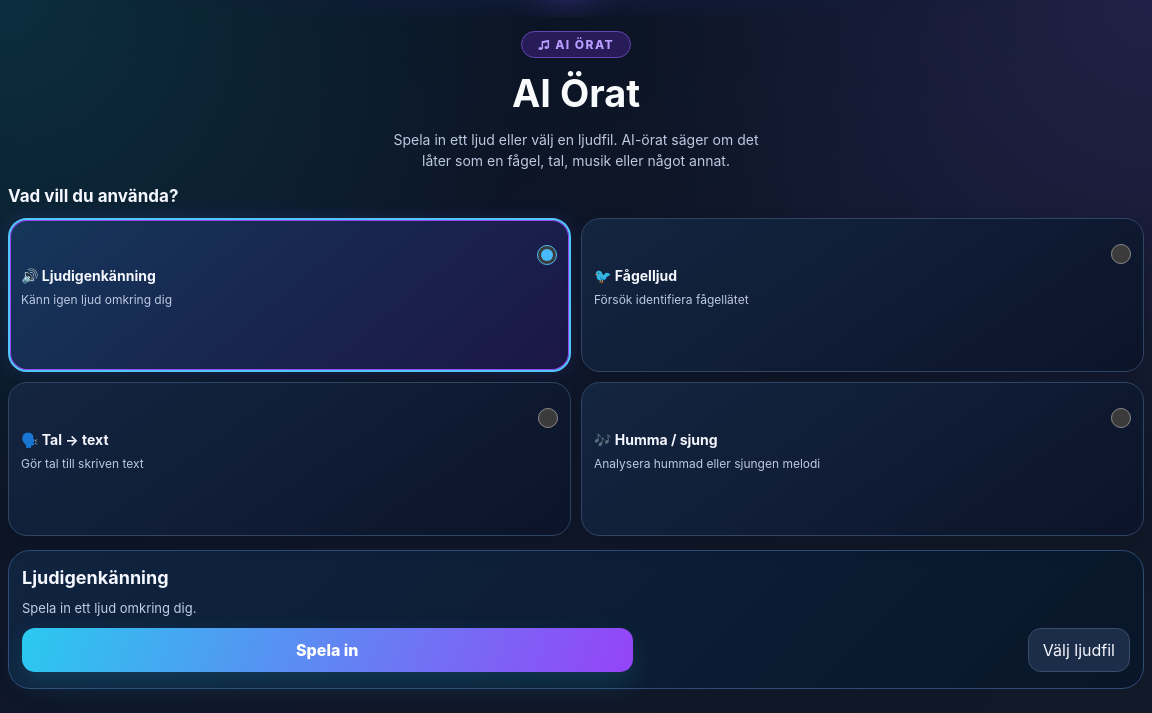
it: AI-örat: funktionsspärr i appen › låter admin spela in först efter en ny godkänd kontroll precis före mikrofonen
(page scrolled)
Click the button "Spela in". click: (327, 650)
box: [22,628,632,672]
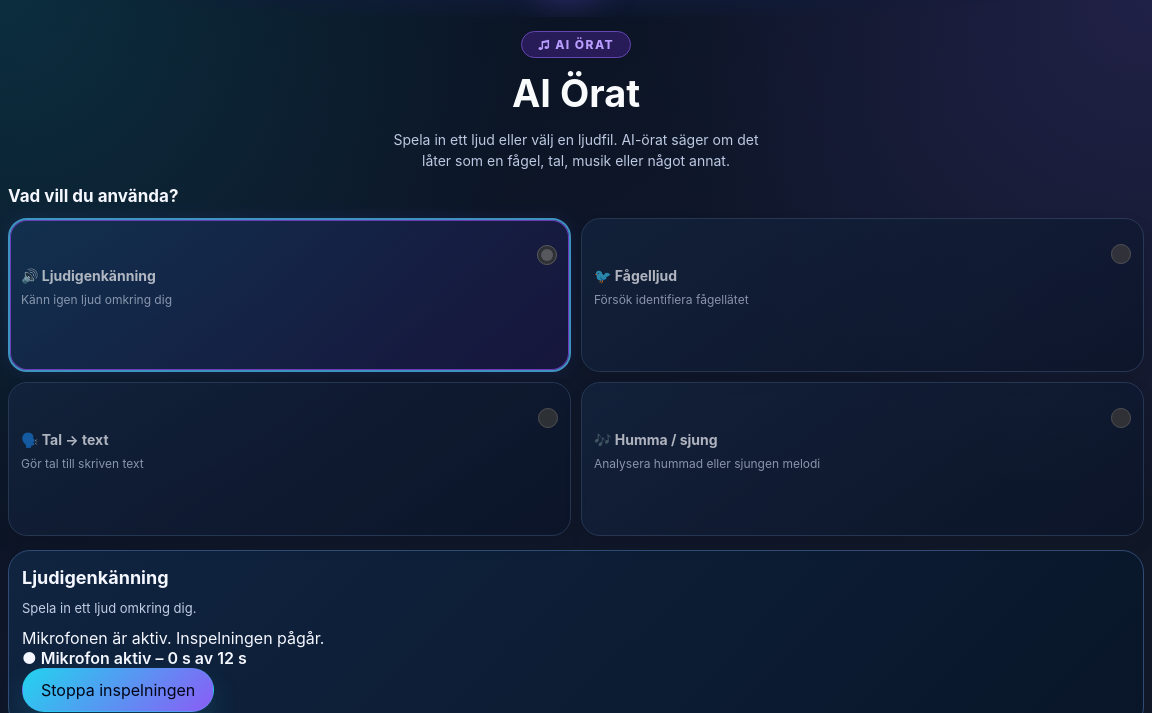
expect the text "● Mikrofon aktiv – 0 s av 12 s" is shown: met, box [22,648,247,668]
